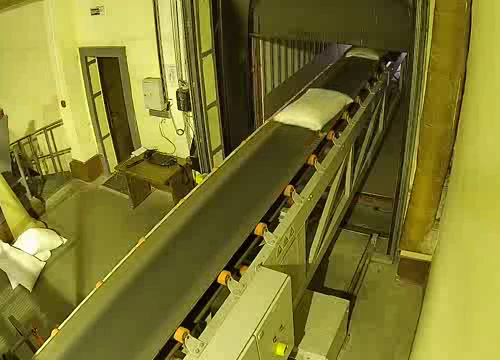bag: (268, 83, 357, 133), (345, 43, 389, 63)
